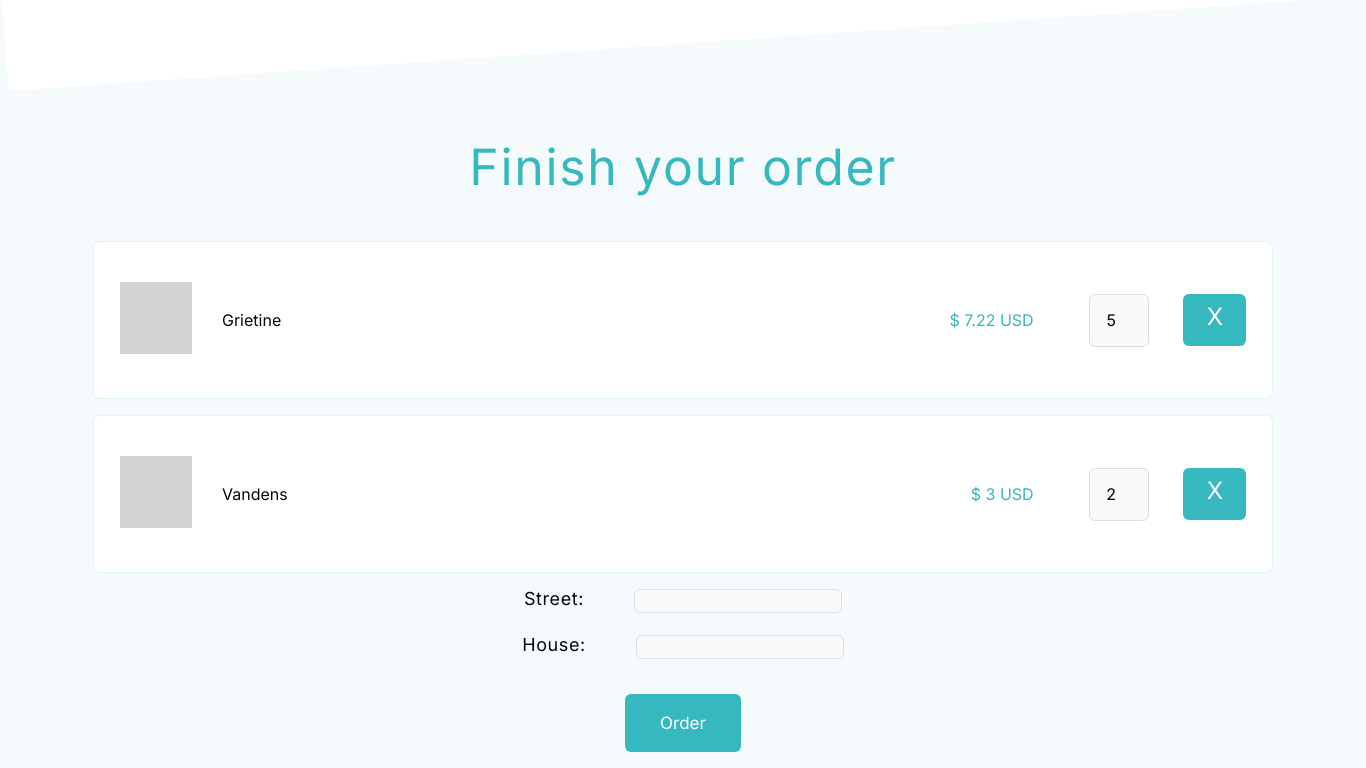
Test: item delete from the cart
Expected: the text "Grietine" is shown, [222,310,281,330]
Expected: the text "Vandens" is shown, [222,484,288,504]
Click the button "X" next to "$ 3 USD": click(1214, 494) [1183,468,1246,520]
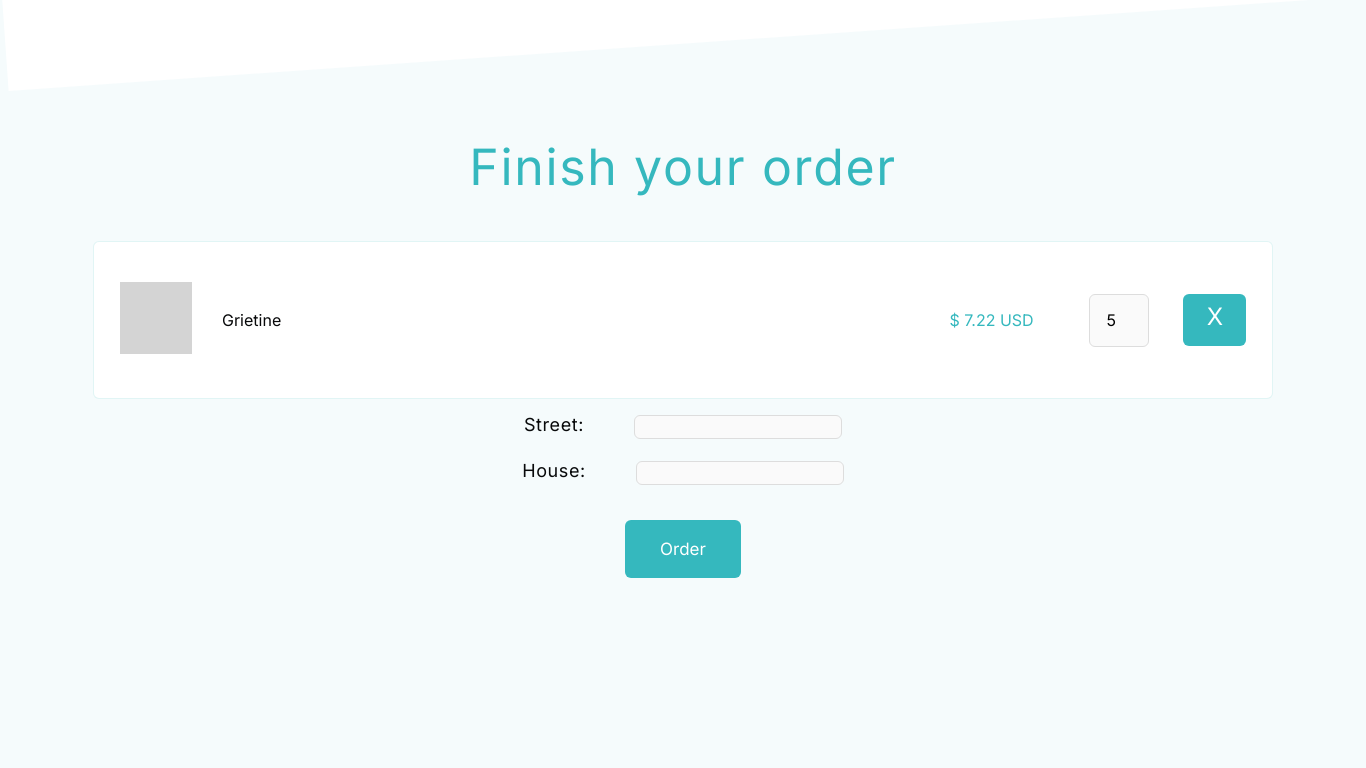
Expected: the text "Grietine" is shown, [222,310,281,330]
Expected: the text "Vandens" is gone
